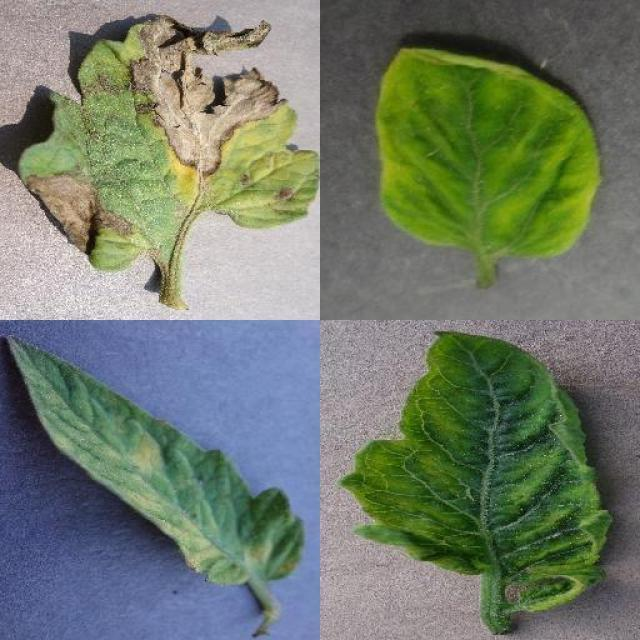Late Blight: (16, 15, 320, 274)
